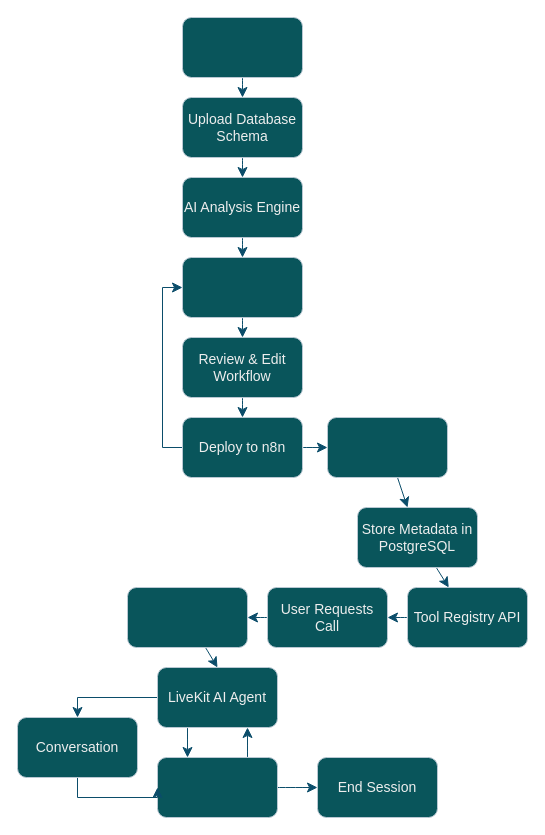
Some shapes in this 545 by 835 pixel diagram are drawn without their labels. Here are the shapes that lost their labels. From the top down, the centre of each, then its label:
the point at 242,47: Admin
the point at 242,287: Generate Workflow
the point at 387,447: Activate Workflow
the point at 187,617: Create Room
the point at 217,787: Runtime Tool Execution
